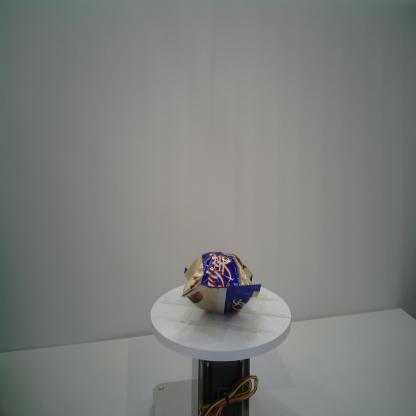Dessert: (180, 249, 264, 318)
